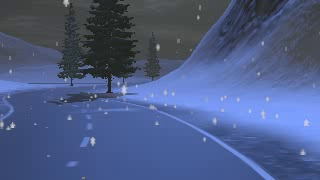Lane: (0, 83, 274, 179)
